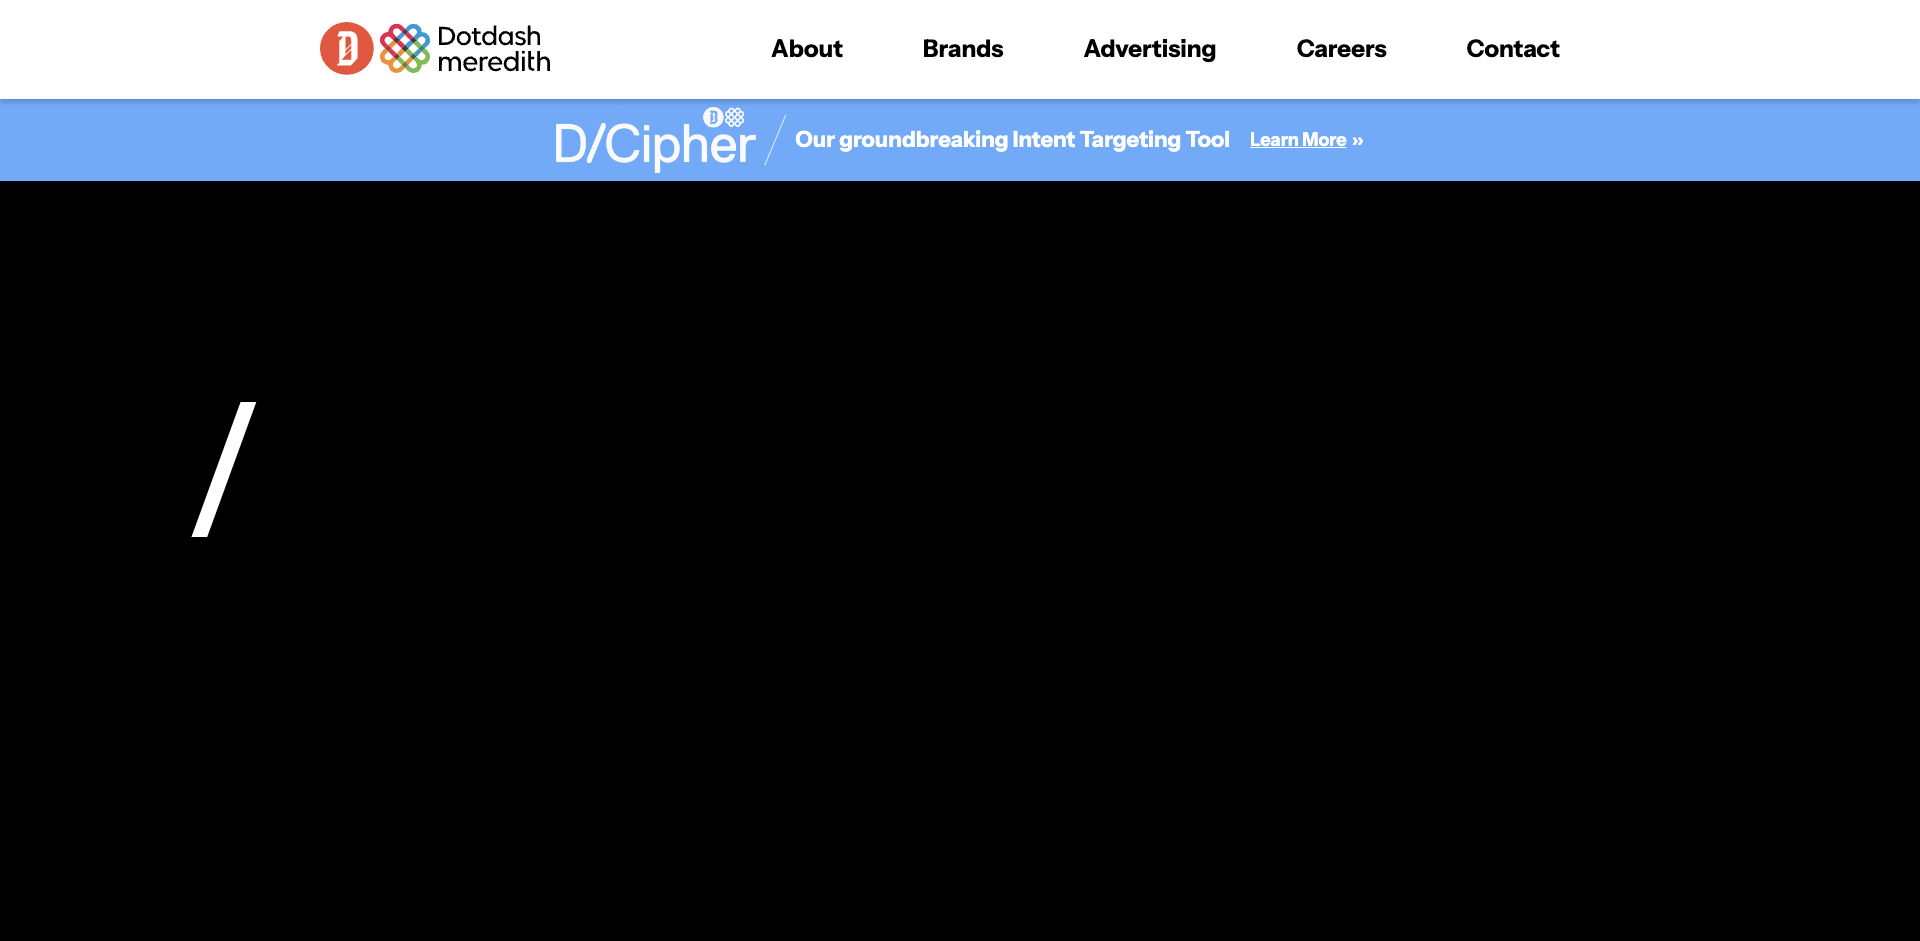link: (1084, 0, 1217, 100), (320, 22, 550, 75), (1467, 0, 1560, 100), (1297, 0, 1386, 100), (1250, 129, 1364, 151)
